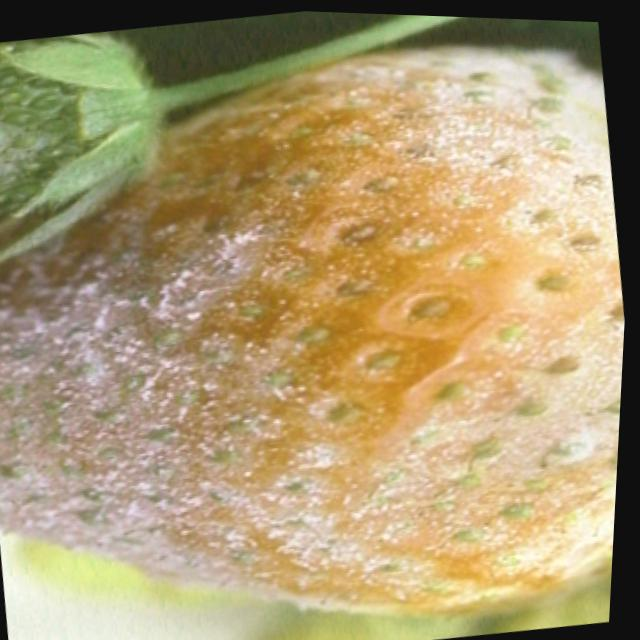Powdery Mildew Fruit: (0, 40, 628, 614), (0, 34, 148, 264)
